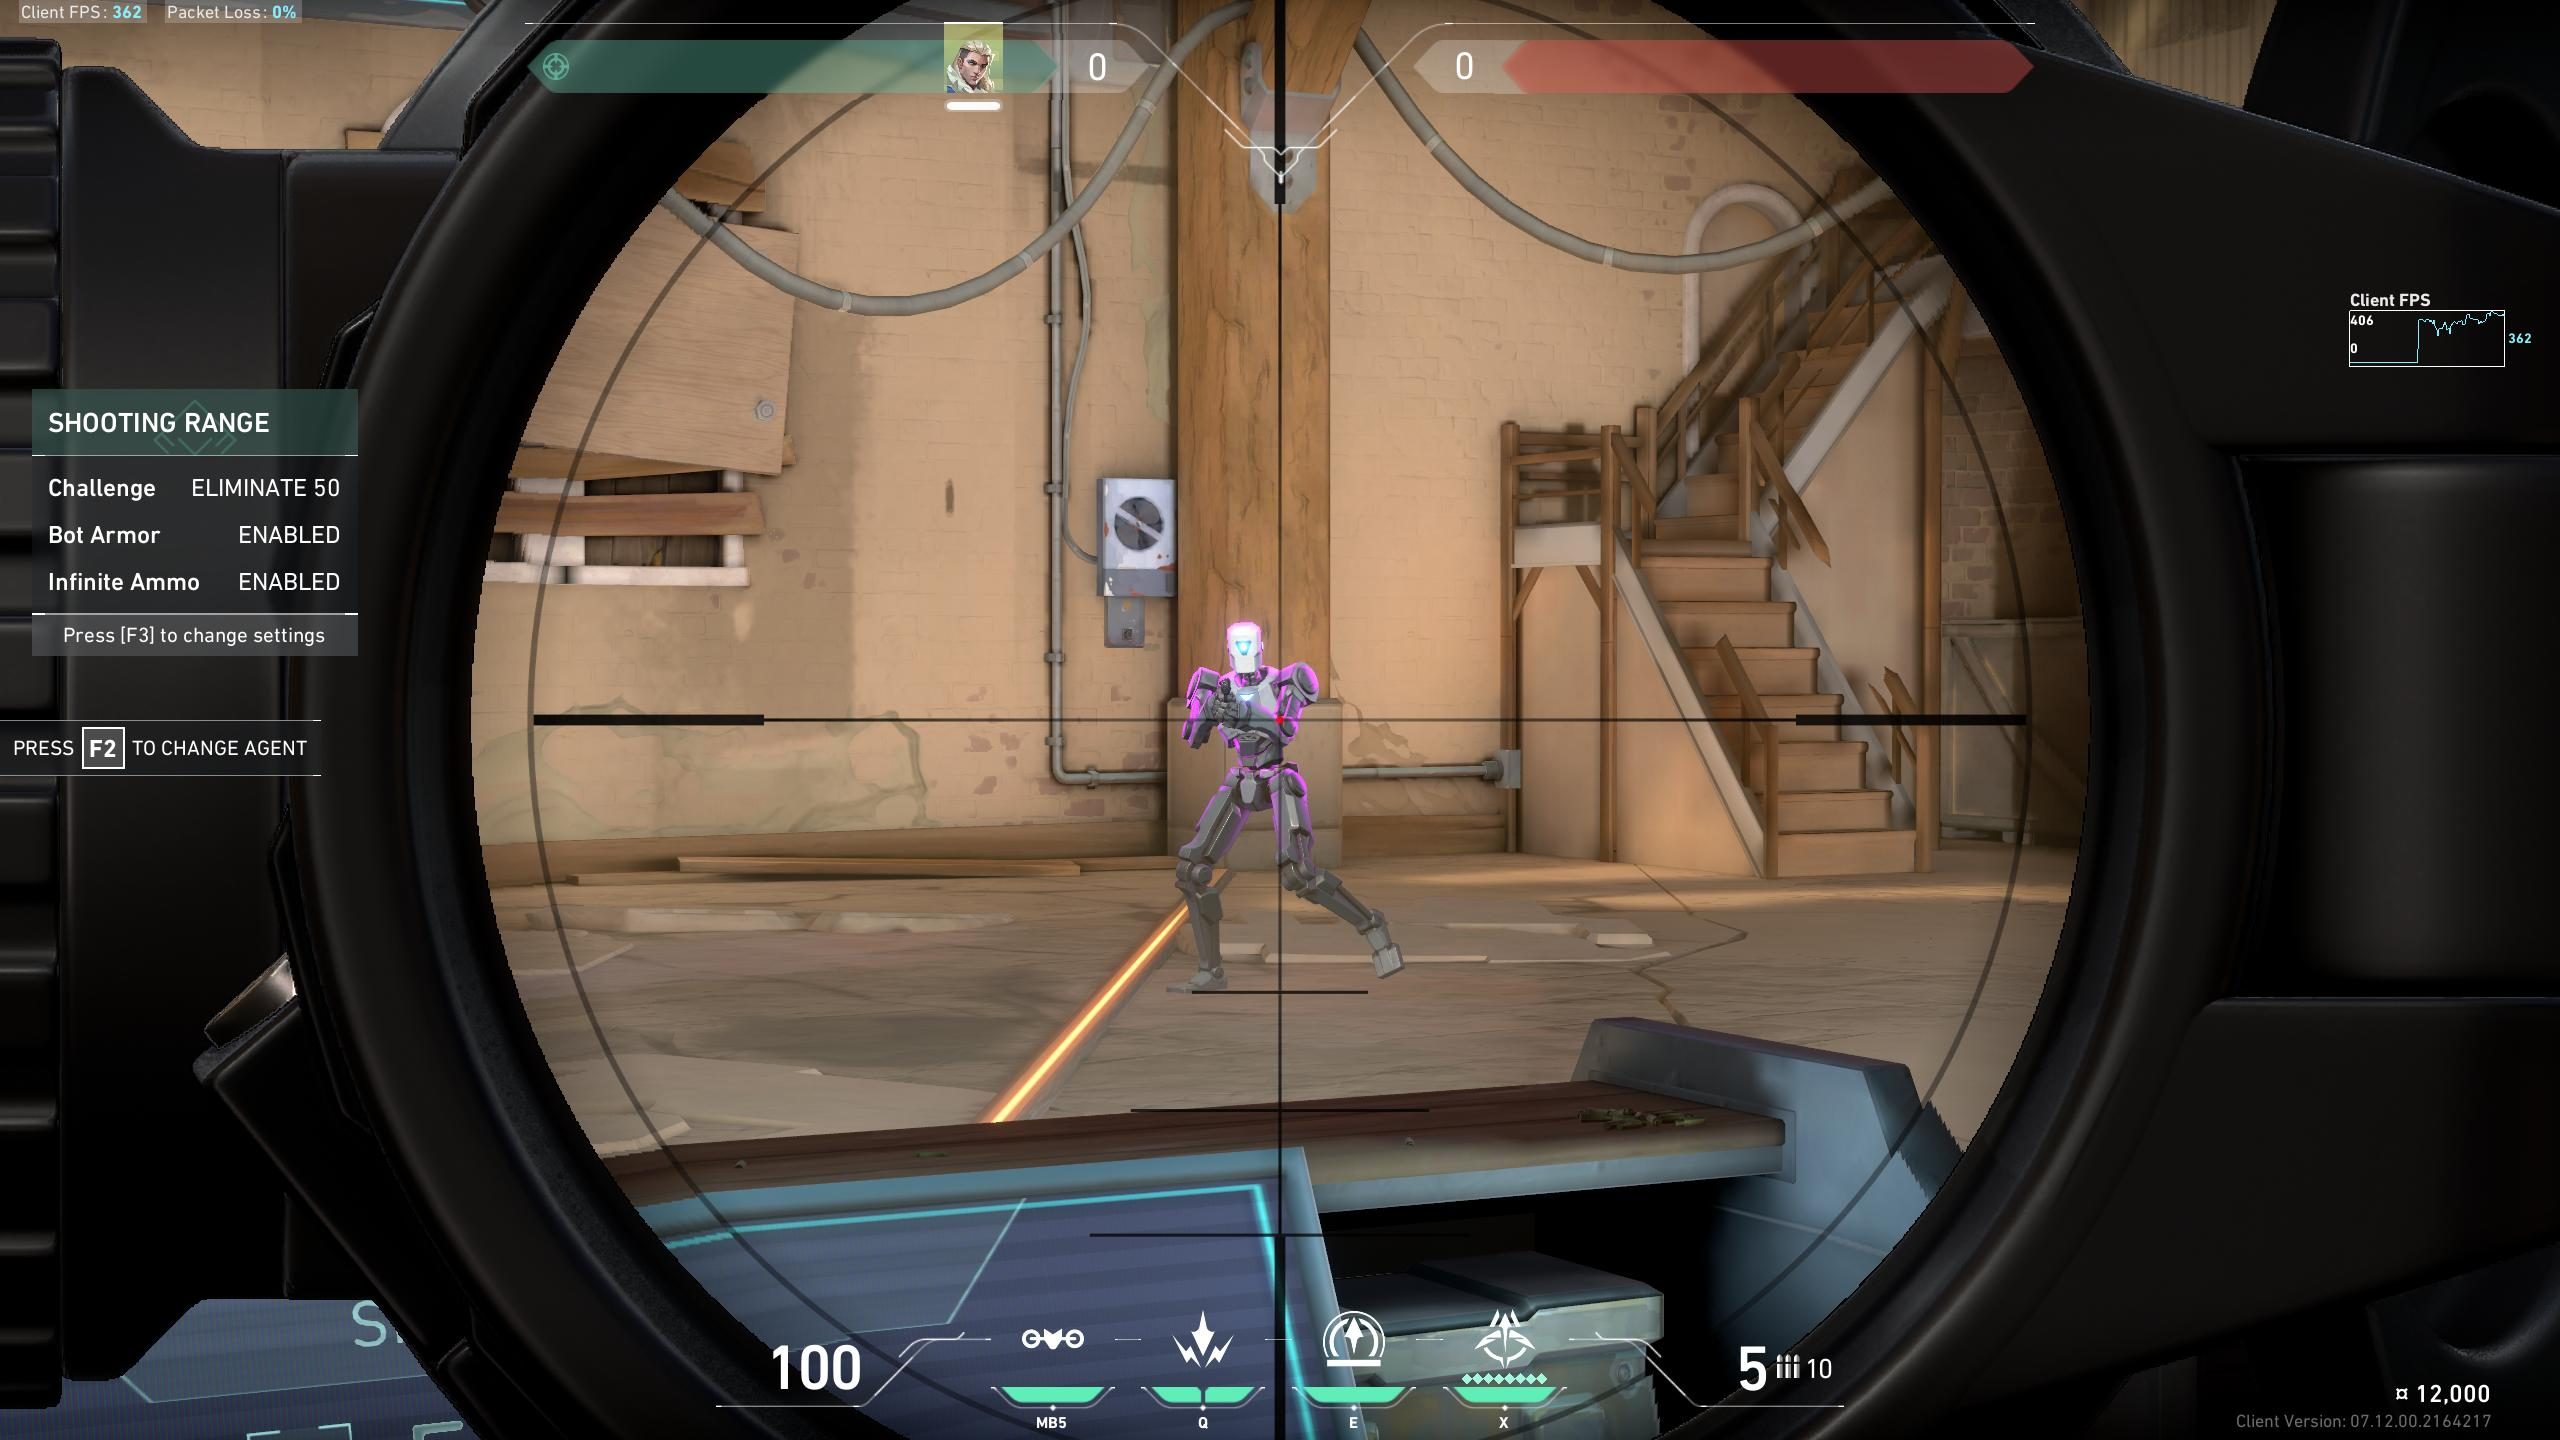enemyBody: (1233, 675, 1276, 731)
enemyHead: (1234, 636, 1262, 665)
